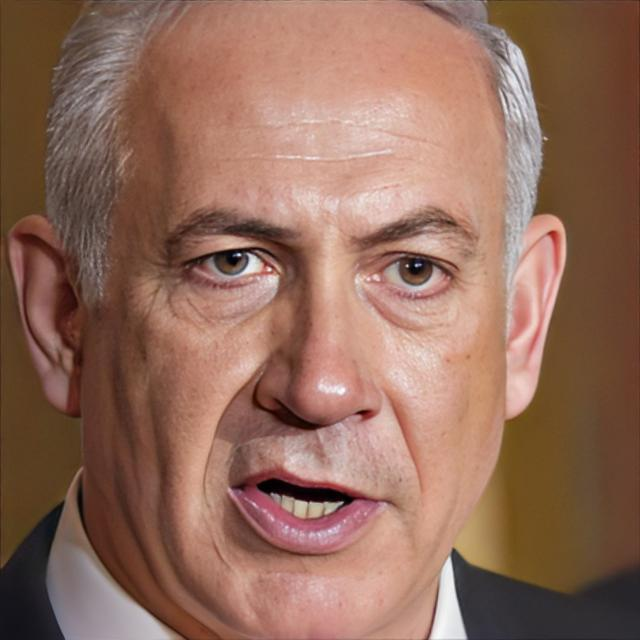anger: (84, 58, 508, 640)
